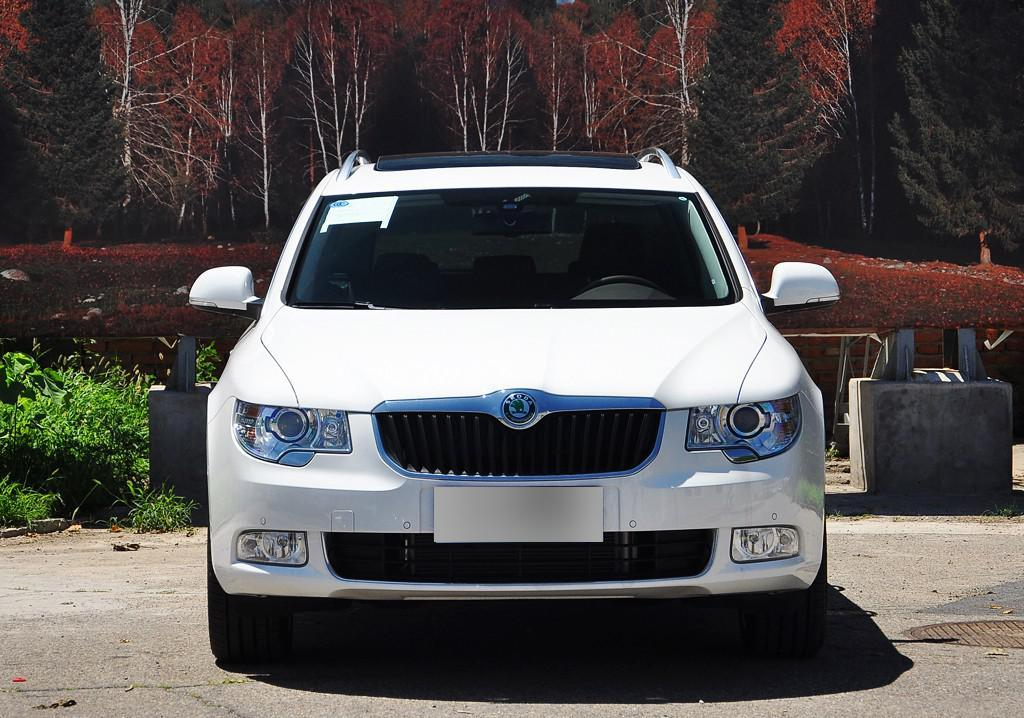Wagon: (185, 150, 842, 659)
